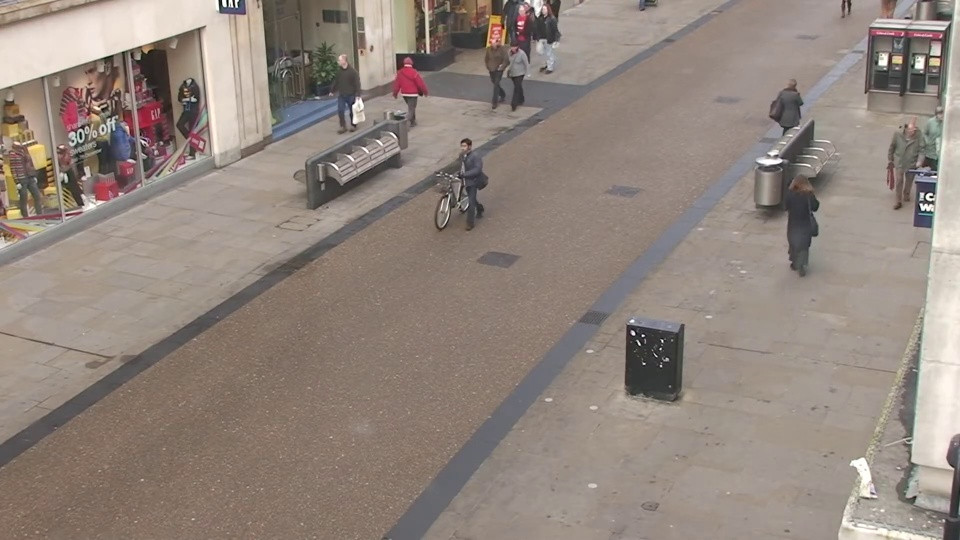pedestrian: (911, 103, 958, 200), (777, 164, 818, 274), (881, 118, 925, 217), (445, 134, 480, 235), (775, 74, 807, 160), (324, 57, 353, 135), (399, 50, 427, 127), (500, 39, 526, 113), (479, 36, 505, 109), (506, 8, 530, 73), (529, 6, 552, 71)
